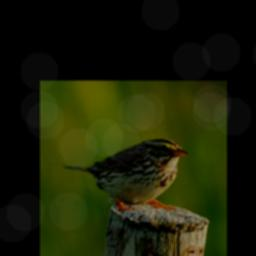Sparrow: (59, 137, 191, 213)
